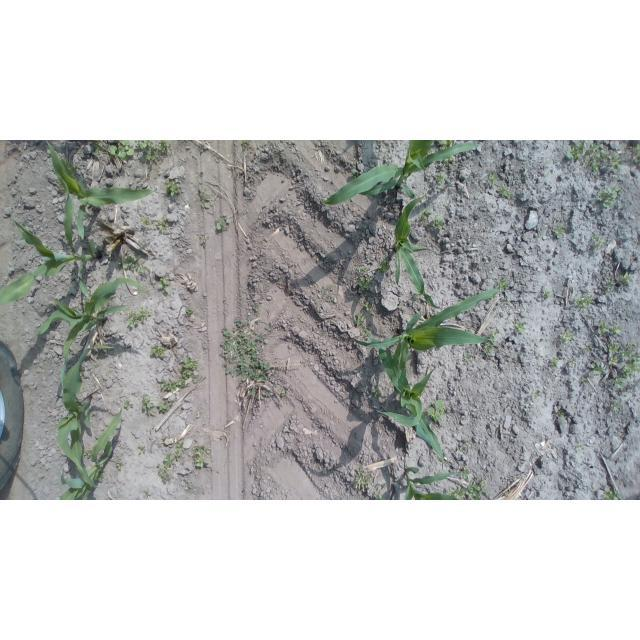Maize: (351, 284, 502, 399), (2, 172, 103, 316), (38, 275, 151, 395), (361, 319, 445, 468), (43, 141, 153, 241), (321, 141, 482, 206), (54, 338, 104, 490), (391, 193, 445, 313), (61, 408, 125, 500), (400, 465, 460, 500)
Weeds: (219, 303, 289, 402), (88, 141, 173, 164), (607, 341, 640, 389), (586, 141, 623, 175), (350, 467, 385, 500), (114, 250, 151, 276), (446, 479, 491, 500), (352, 265, 377, 295), (596, 184, 620, 211), (156, 452, 176, 484), (158, 378, 189, 395), (195, 185, 215, 211), (193, 445, 213, 471), (179, 356, 199, 382), (594, 321, 626, 337), (127, 310, 153, 329), (436, 141, 456, 164), (353, 314, 372, 337), (140, 396, 157, 419), (429, 400, 446, 423), (572, 295, 596, 311), (566, 140, 584, 161), (318, 284, 336, 304), (483, 331, 497, 355), (599, 485, 621, 500), (149, 341, 167, 359), (616, 272, 633, 291), (136, 214, 156, 230), (166, 179, 183, 197), (512, 319, 529, 336), (600, 280, 617, 297), (436, 172, 453, 189), (377, 256, 393, 274), (551, 224, 569, 240), (496, 275, 511, 294), (587, 362, 603, 379), (456, 436, 473, 452), (214, 216, 228, 235), (551, 409, 569, 423), (591, 236, 606, 252), (498, 186, 514, 201), (418, 205, 432, 222), (365, 384, 379, 401), (158, 277, 170, 296), (556, 329, 572, 343), (432, 214, 445, 230), (631, 143, 640, 165), (610, 400, 624, 414), (157, 402, 172, 415), (158, 216, 170, 232), (487, 171, 497, 188), (577, 375, 590, 388), (134, 443, 148, 455), (546, 356, 559, 368), (363, 299, 374, 313), (122, 398, 134, 410), (114, 457, 124, 471), (175, 441, 185, 455), (95, 472, 106, 484), (82, 449, 94, 460), (199, 234, 209, 247), (574, 443, 587, 453), (530, 389, 541, 400), (459, 470, 471, 480), (583, 344, 593, 355), (541, 290, 552, 300), (465, 351, 476, 361), (240, 141, 249, 152), (569, 357, 577, 369), (186, 308, 194, 317)
